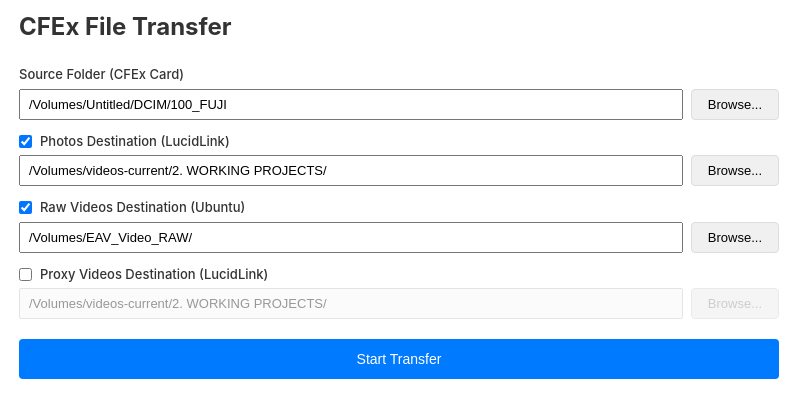
CfexTransferWindow › Destination Enable/Disable Checkboxes › disables raw videos input when videos checkbox unchecked
expect the field showing "EAV_Video_RAW" is enabled: met, box [19, 222, 683, 252]
Note: Uncheck videos checkbox
Click the checkbox named "raw videos destination": point(26, 208) [19, 201, 32, 214]
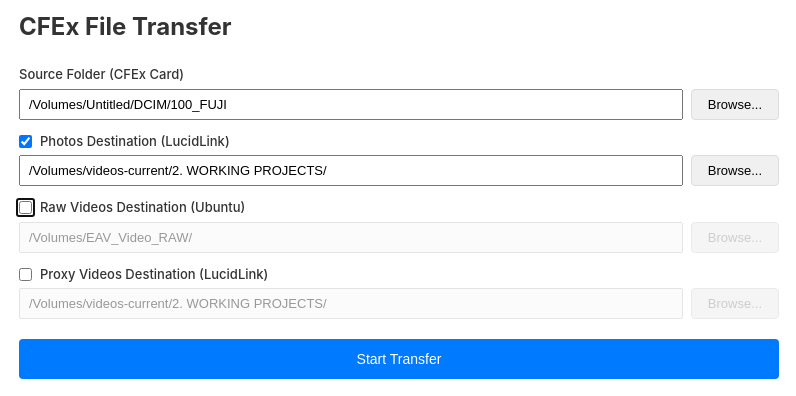
expect the field showing "EAV_Video_RAW" is disabled: met, box [19, 222, 683, 252]
expect the 3rd button "Browse..." is disabled: met, box [691, 222, 779, 252]
